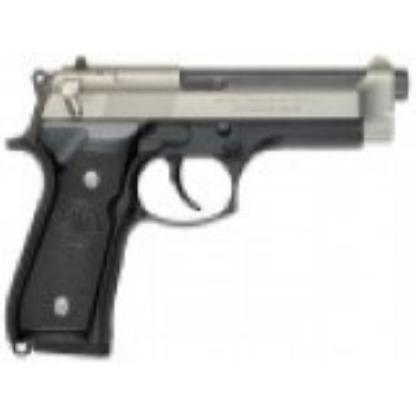gun: (6, 57, 410, 357)
